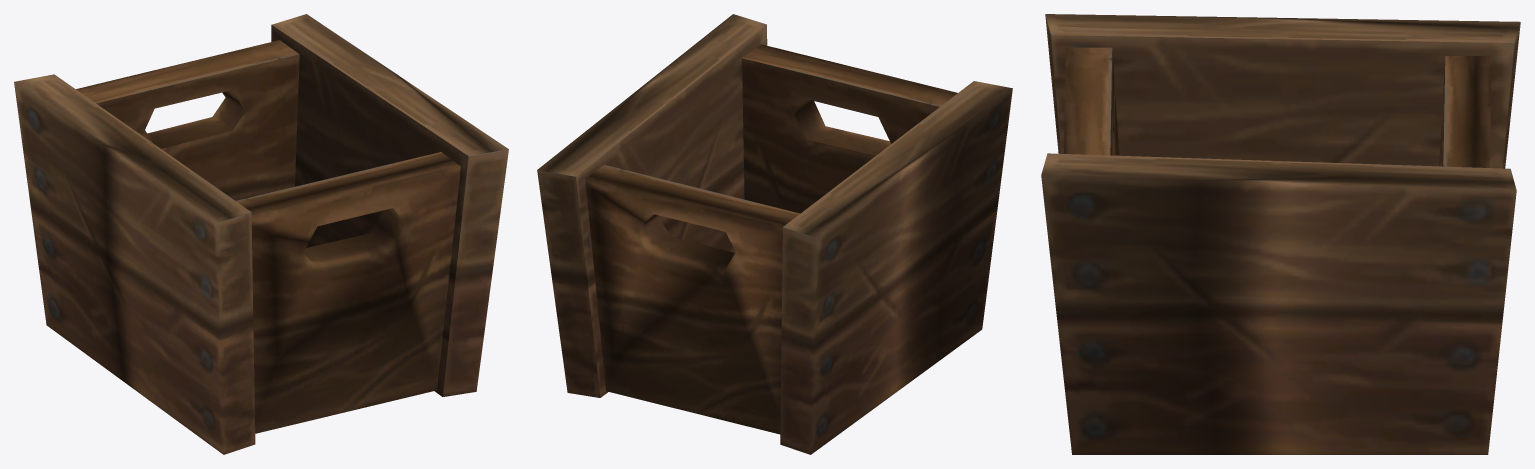
File: 6hu_garrison_farm_crate.obj
3 renders of one model, left to right at view 1: azimuth 30°, elevation 25°; view 2: azimuth 150°, elevation 25°; view 3: azimuth 270°, elevation 25°, orthographic. The views are drawn at different scales.
Parts seen in each view (by area): view 1: 6HU_GARRISON_FARM_CRATE0; view 2: 6HU_GARRISON_FARM_CRATE0; view 3: 6HU_GARRISON_FARM_CRATE0.
Part boxes in pixels (x1,y1,x2,y2): 6HU_GARRISON_FARM_CRATE0: (14,14,508,454); 6HU_GARRISON_FARM_CRATE0: (537,14,1012,454); 6HU_GARRISON_FARM_CRATE0: (1041,14,1520,454).
Bounding box in the file's own units: 0.7558 × 0.6204 × 0.9187.
Materials: 1 (1 with a texture image).
